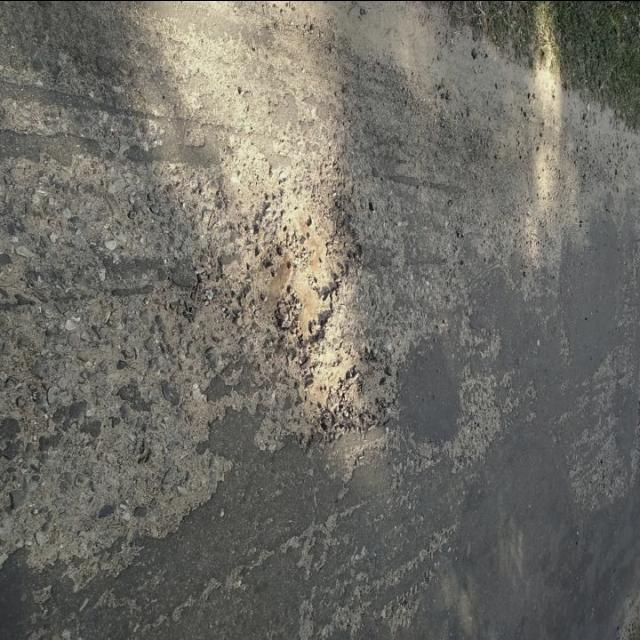pothole: (0, 360, 246, 587), (212, 149, 394, 348), (302, 327, 436, 451), (560, 322, 638, 532), (344, 575, 452, 640)
